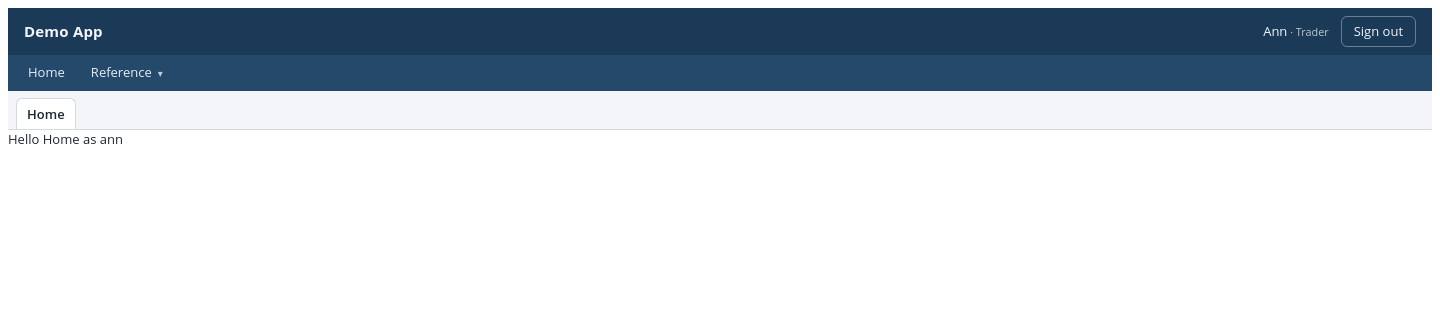
Test: opens displays from folders, reuses tabs and contains unknown implementations
Earlier steps of the test are not shown.
Step 1. Click the button "Reference ▾" → (127, 73), box [79,55,175,91]
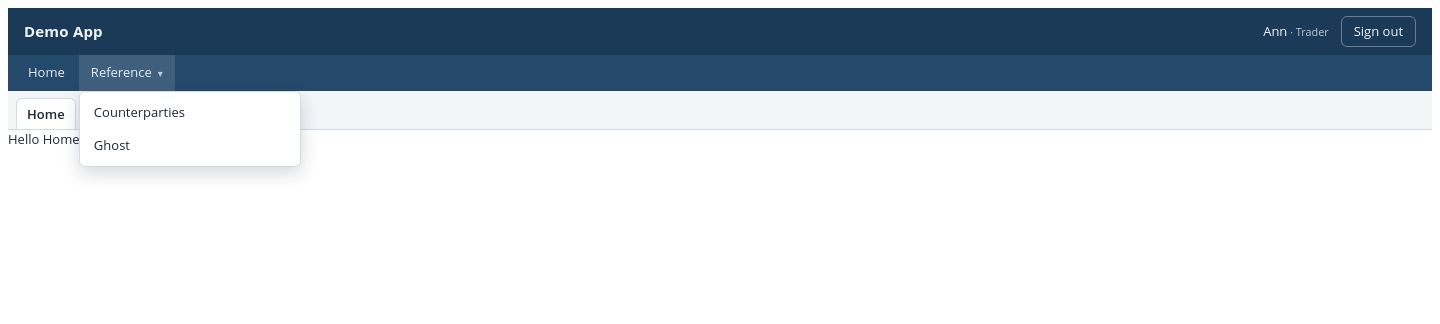
Step 2. Click the menu item "Counterparties" → (190, 112), box [80,96,300,129]
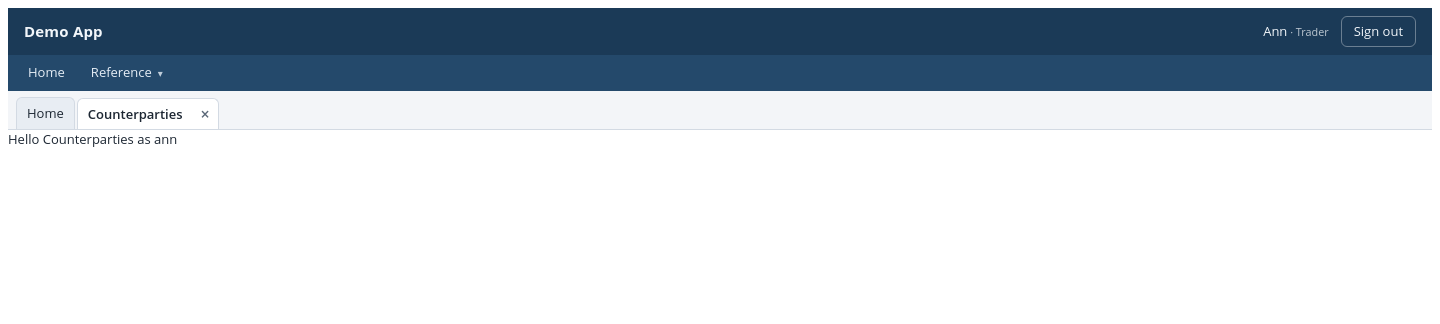
Result: the text "Hello Counterparties" is shown at [8,130,177,148]
Step 3. Click the button "Reference ▾" → (127, 73), box [79,55,175,91]
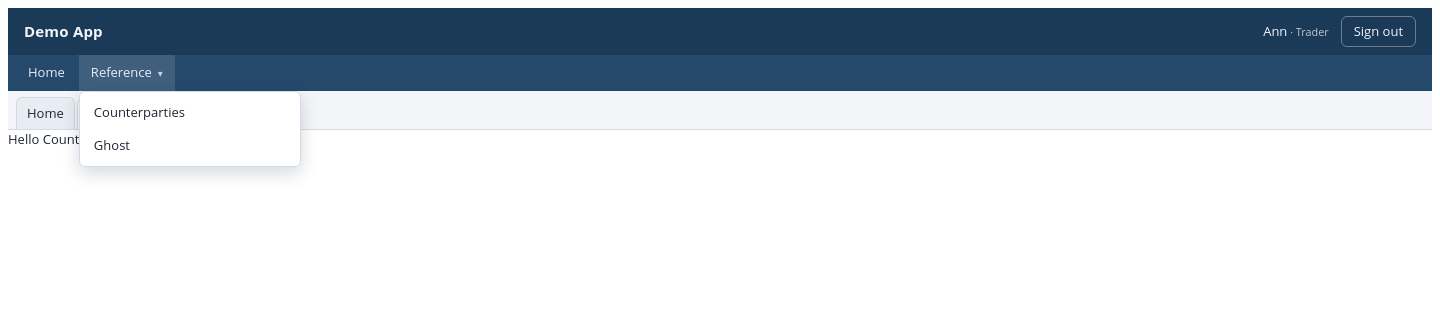
Step 4. Click the menu item "Counterparties" → (190, 112), box [80,96,300,129]
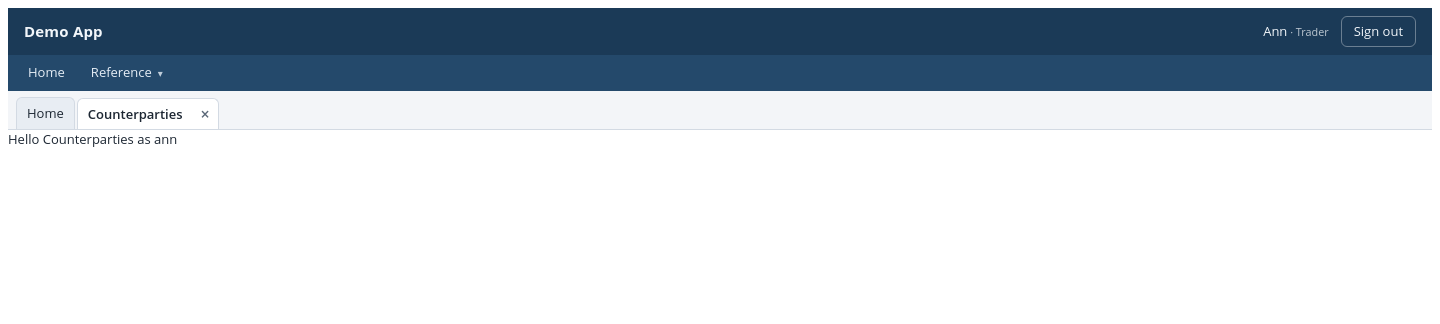
Result: the number of tabs is 2 at [17,98,74,129]; [78,99,192,130]
Step 5. Click the button "Reference ▾" → (127, 73), box [79,55,175,91]
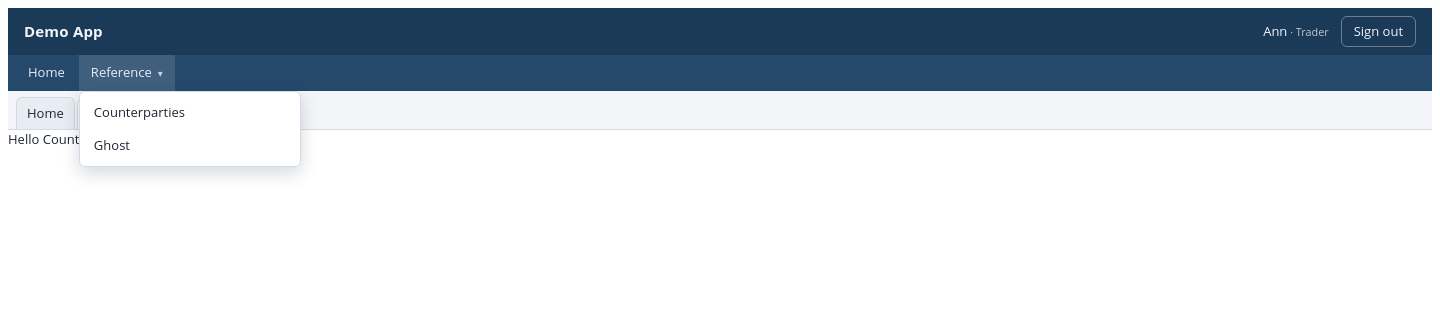
Step 6. Click the menu item "Ghost" → (190, 145), box [80,129,300,162]
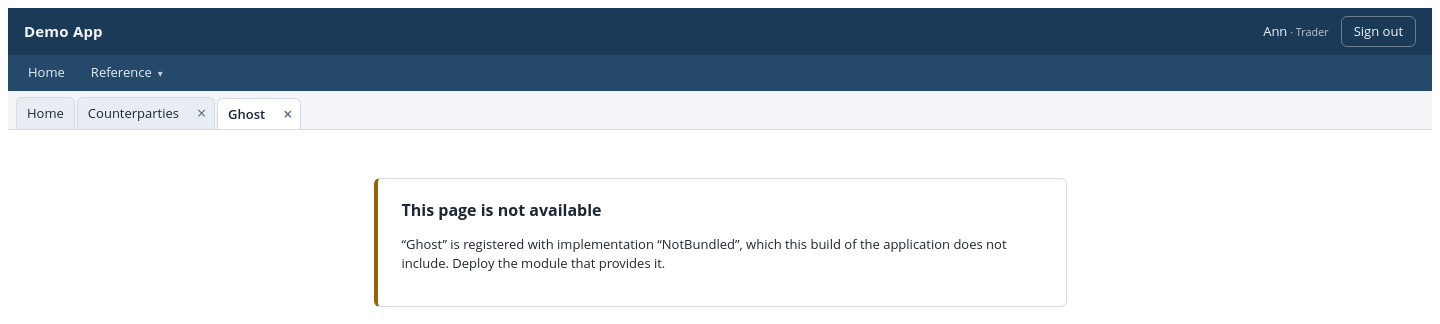
Result: the text "which this build of the application does not include" is shown at [402,235,1006,272]
